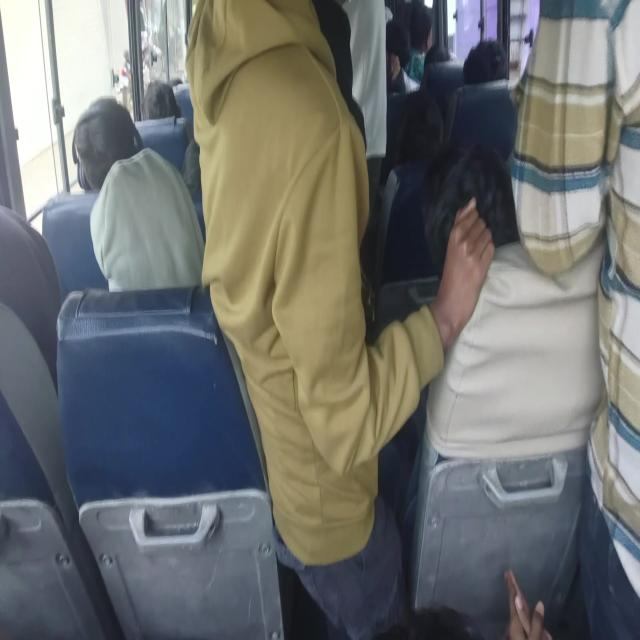person: (184, 1, 498, 636), (71, 95, 205, 292), (421, 141, 520, 279), (503, 570, 552, 638), (385, 19, 420, 95), (403, 2, 432, 84), (462, 37, 507, 85), (141, 79, 181, 119)
